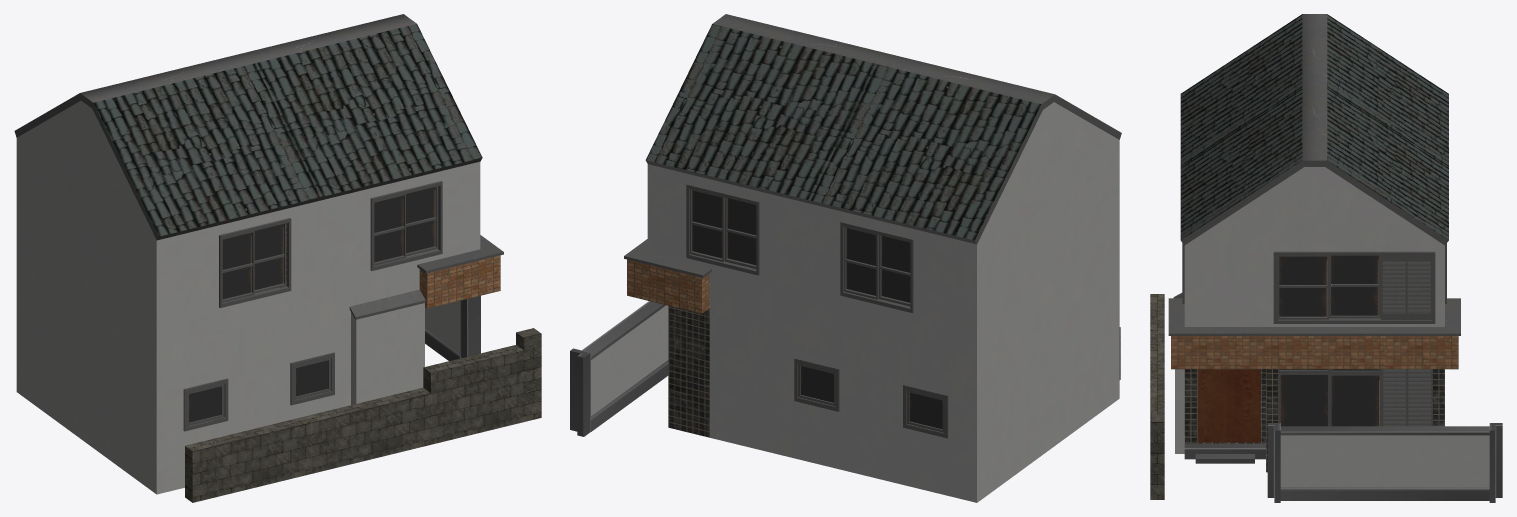
File: jp-home1.glb
3 views of the same model, side by side, from view 1: azimuth 30°, elevation 25°; view 2: azimuth 150°, elevation 25°; view 3: azimuth 270°, elevation 25° (orthographic). The views are drawn at different scales.
Visible parts, largest first — view 1: JapaneseResidentialHome_01_blinn1_0; view 2: JapaneseResidentialHome_01_blinn1_0; view 3: JapaneseResidentialHome_01_blinn1_0.
Boxes of the visible parts, box(x1,y1,x2,y2) form: JapaneseResidentialHome_01_blinn1_0: box(14, 14, 541, 502); JapaneseResidentialHome_01_blinn1_0: box(570, 14, 1121, 502); JapaneseResidentialHome_01_blinn1_0: box(1150, 14, 1502, 502).
Bounding box in the file's own units: 12 × 10.63 × 10.57.
1 material, 1 textured.
